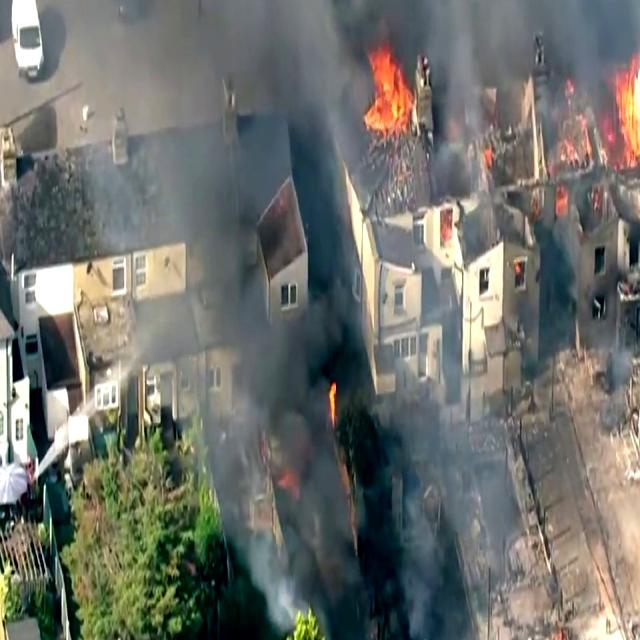fire: (354, 31, 427, 152), (603, 51, 640, 173)
